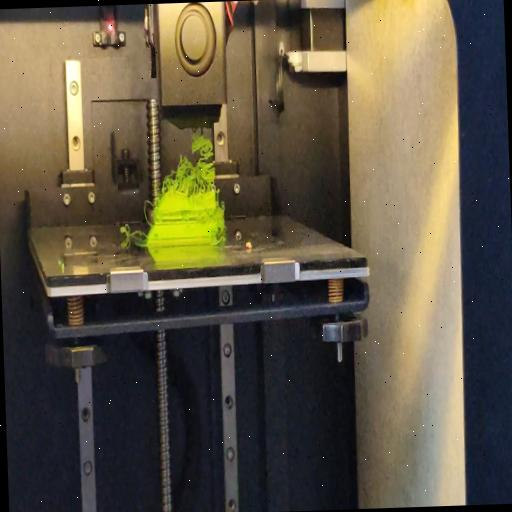spaghetti: (160, 132, 215, 196), (119, 223, 145, 239), (142, 199, 154, 227), (216, 232, 226, 242)
